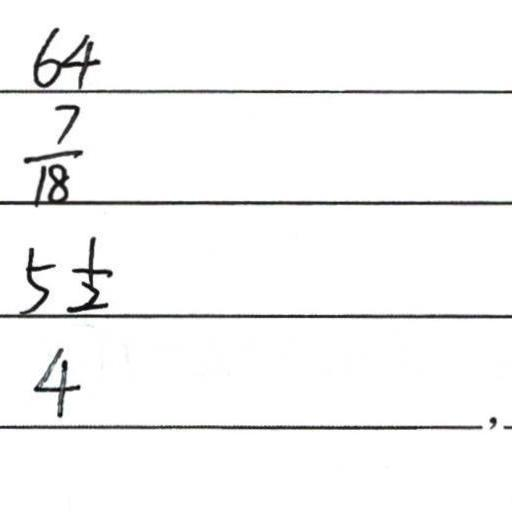ans: (15, 232, 113, 315), (19, 98, 84, 208), (27, 21, 100, 90), (28, 343, 81, 417)
